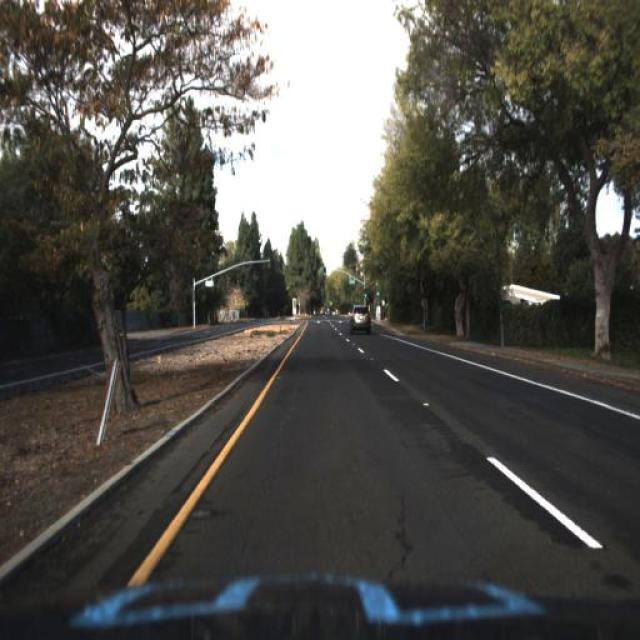car: (349, 300, 371, 336)
trafficLight-GreenLeft: (321, 264, 329, 284), (362, 286, 369, 306)
